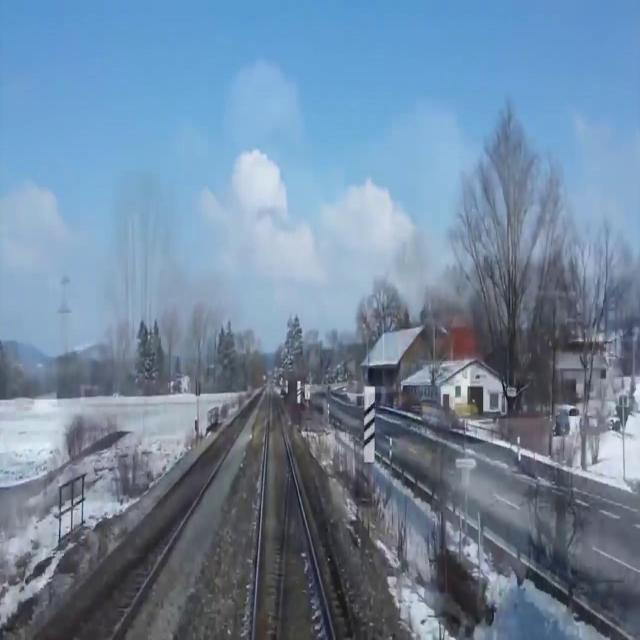rail-track: (256, 384, 330, 639)
